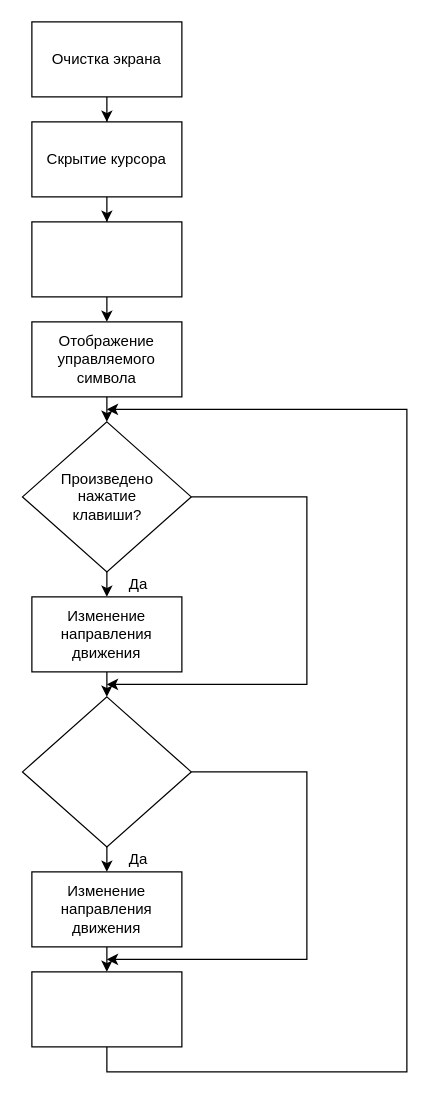
The diagram is 439 pixels wide and 1104 high, and some of its shapes have lost their labels. Each missing label, with the centre of its shape:
Инициализация текстовых окон: (x=106, y=259)
Сдвиг символа на один шаг: (x=106, y=1009)
Символ может выйти за границы окна?: (x=106, y=771)
